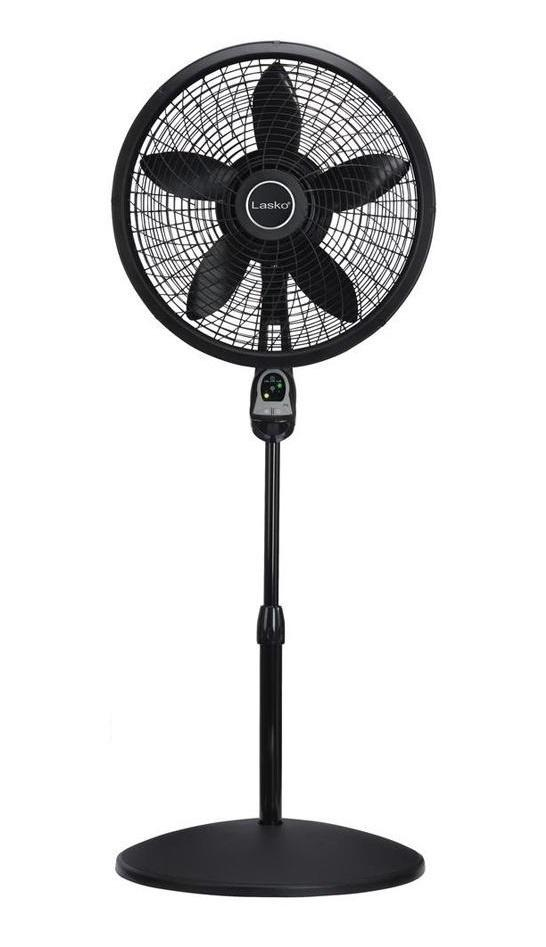fan: (68, 41, 480, 923)
